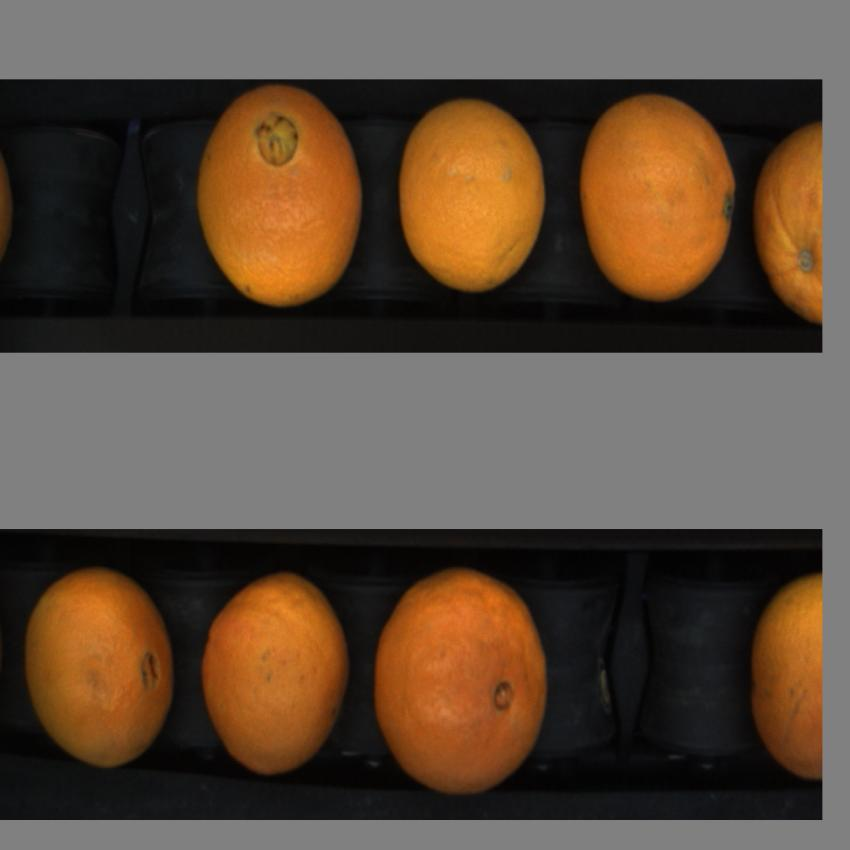Buen estado: (370, 563, 554, 801), (192, 78, 368, 321), (572, 88, 742, 316), (19, 556, 183, 774), (194, 568, 354, 786), (390, 88, 555, 295), (747, 563, 825, 792), (750, 118, 825, 324)
